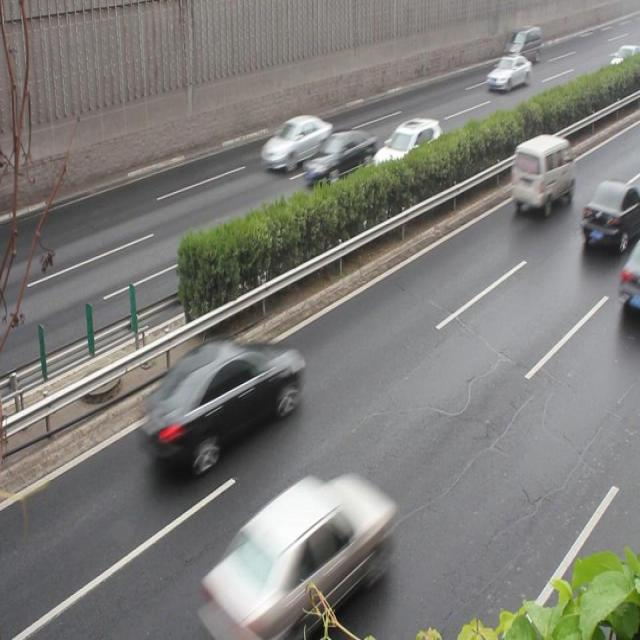car: (212, 473, 388, 632), (143, 342, 298, 465), (580, 177, 640, 253), (372, 118, 446, 178), (302, 128, 375, 186), (260, 116, 330, 170), (486, 54, 530, 92)
truck: (509, 133, 572, 213)
